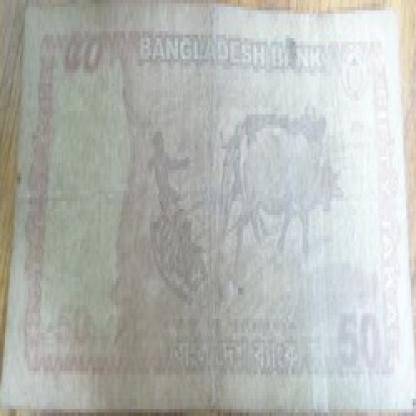Fifty taka: (330, 312, 386, 388), (64, 21, 116, 97)
